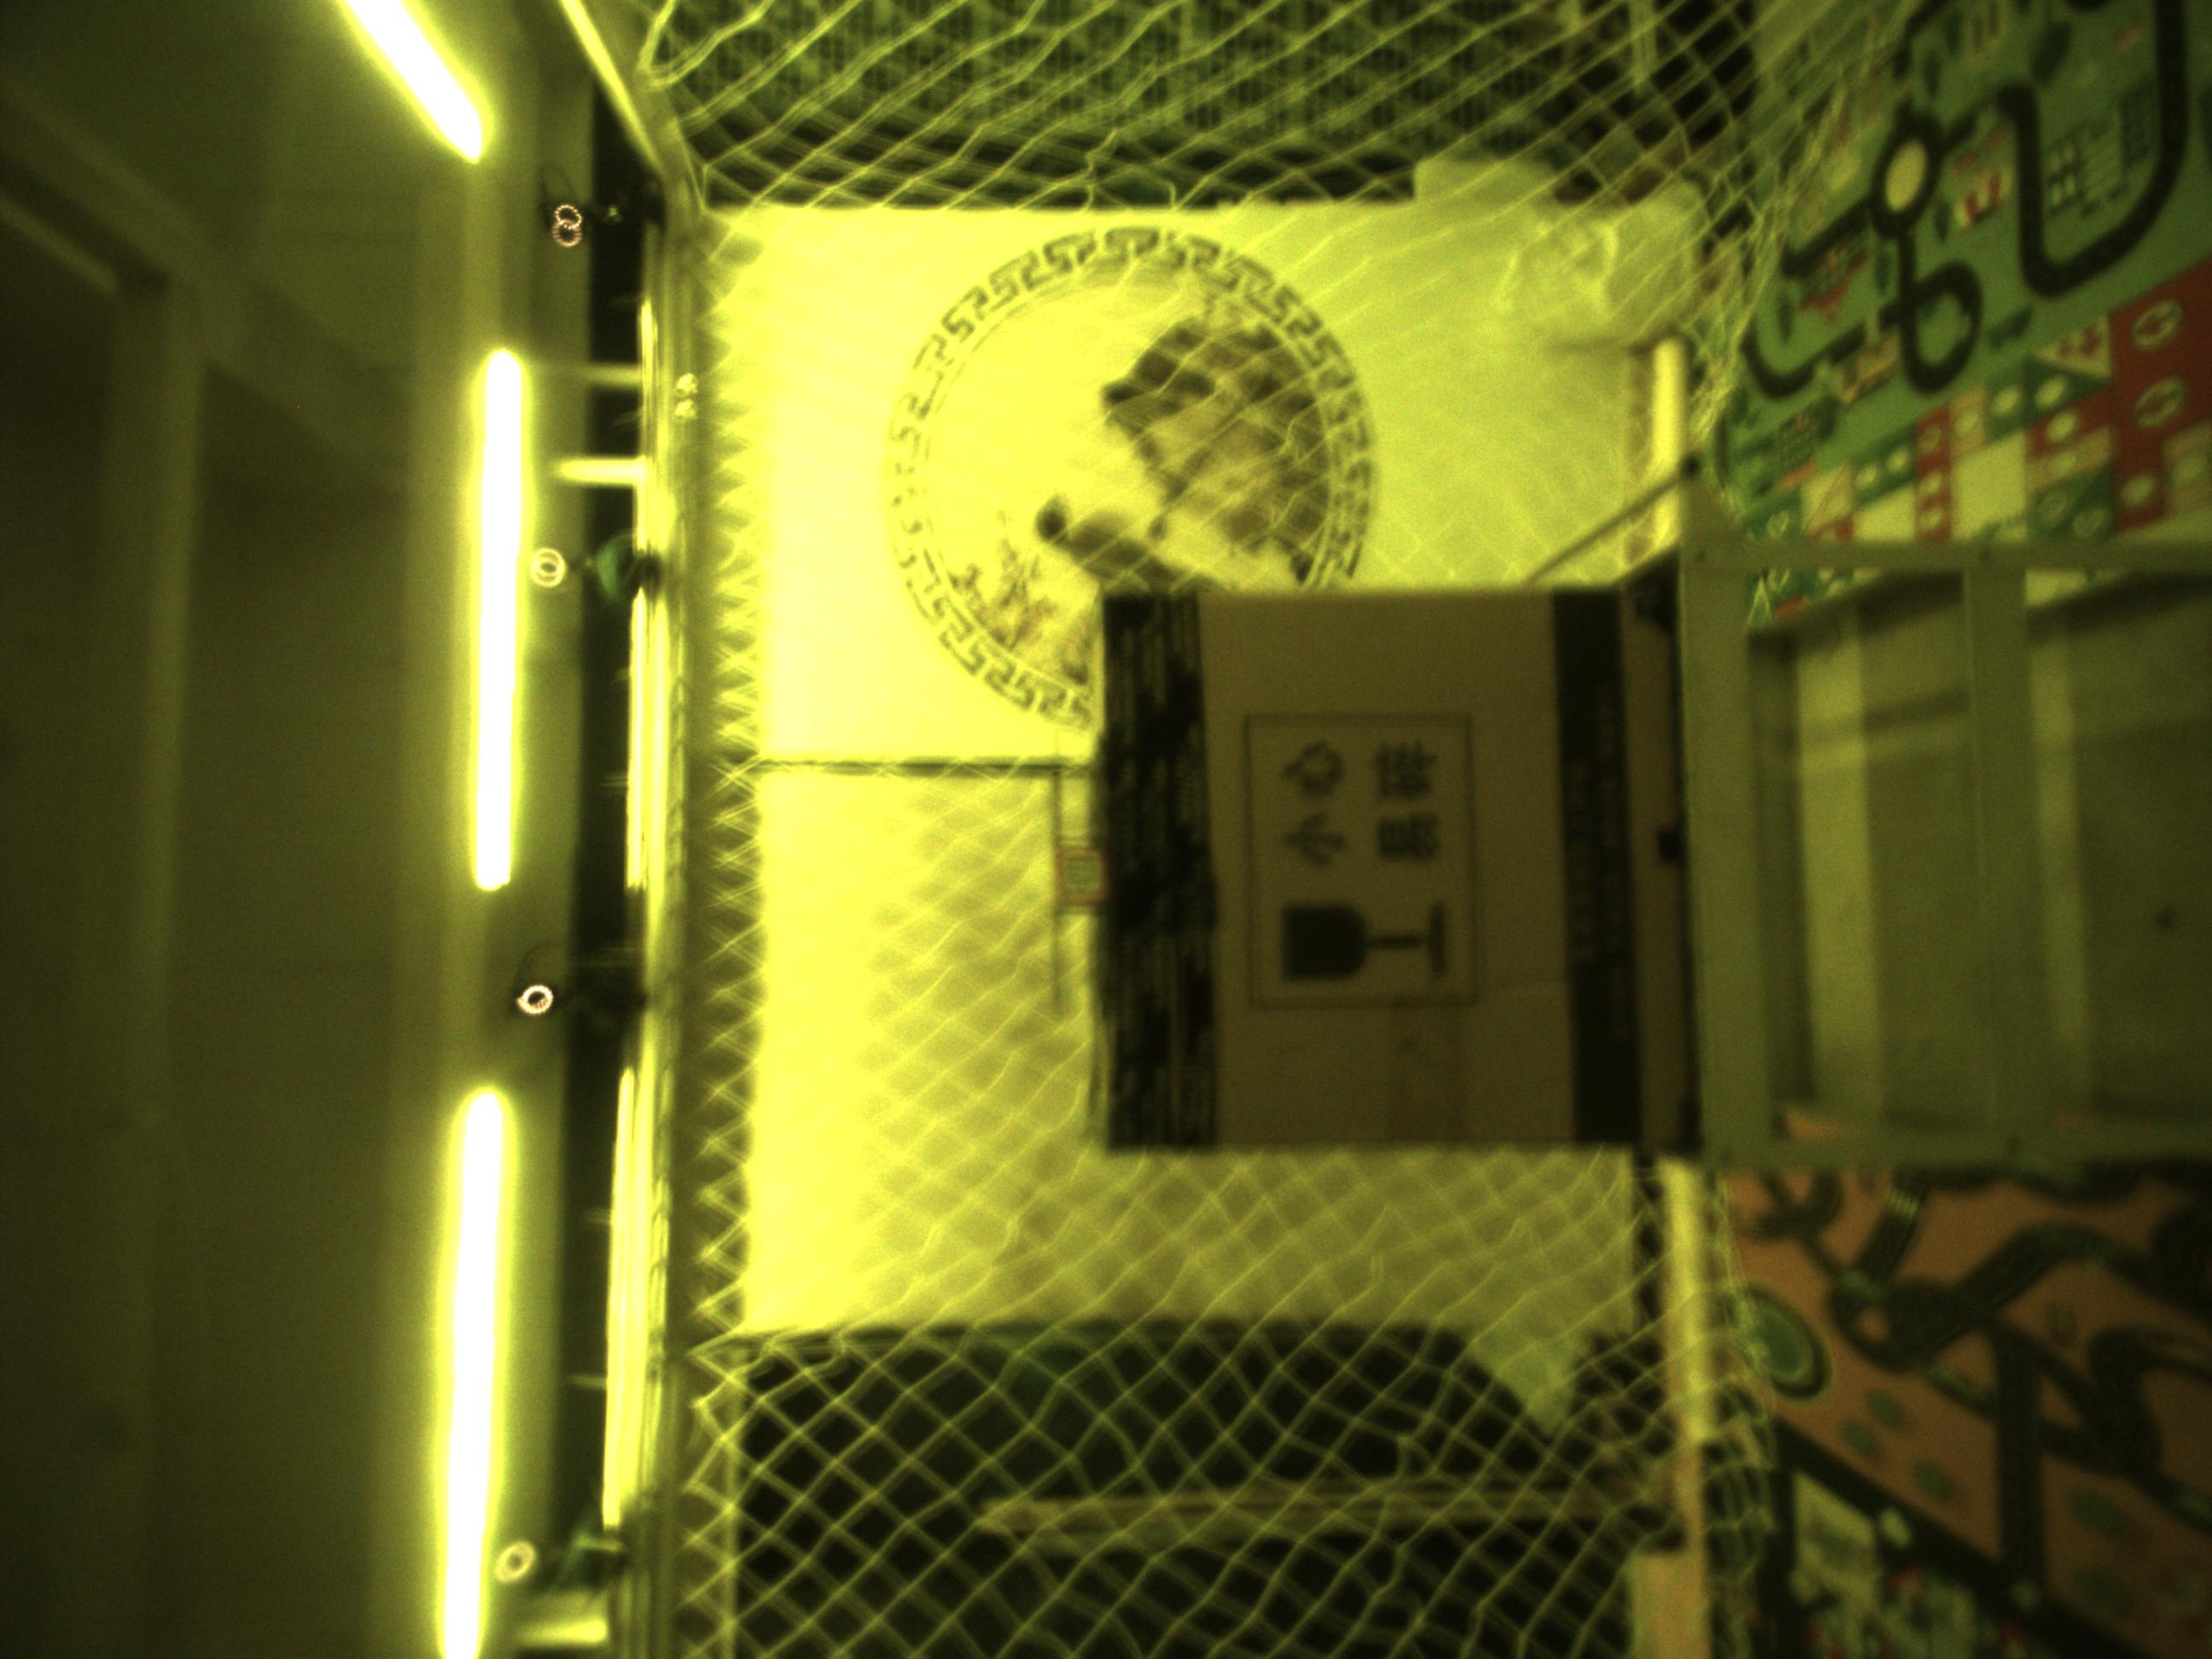outline: (1055, 845, 1108, 904)
